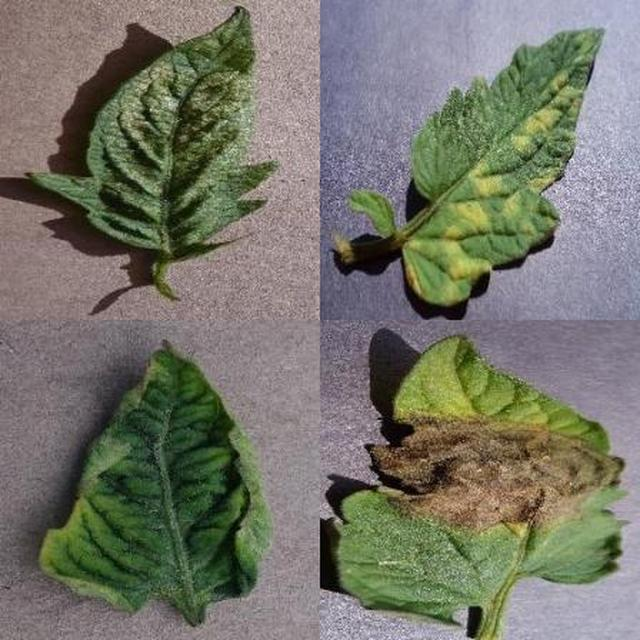Spider Mites Leaf: (216, 185, 640, 640)
